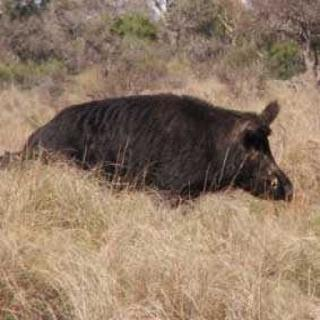Pig: (31, 72, 302, 219)
